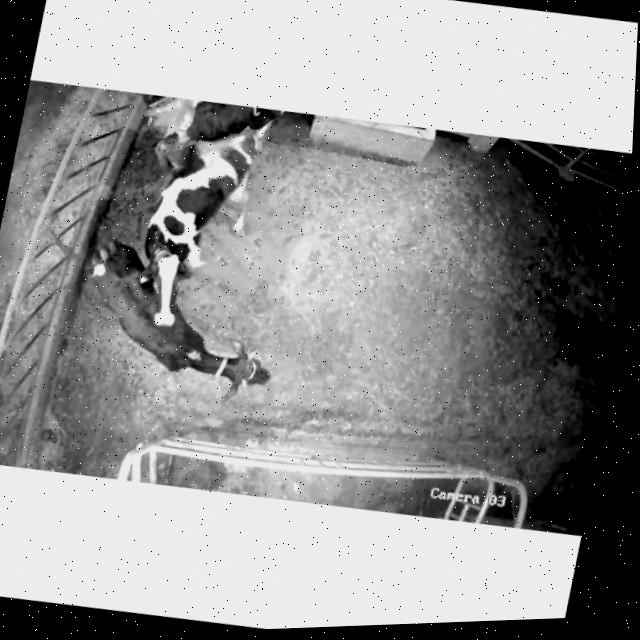propping: (117, 229, 209, 350)
stand: (63, 226, 315, 422), (127, 86, 324, 169)
